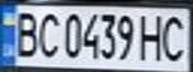0: (60, 9, 81, 60)
3: (97, 10, 118, 61)
4: (78, 9, 103, 61)
9: (115, 11, 139, 62)
B: (9, 8, 42, 59)
C: (157, 11, 190, 63), (33, 9, 63, 60)
H: (136, 11, 169, 62)
